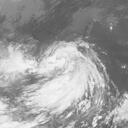cyclone: (38, 39, 95, 89)
